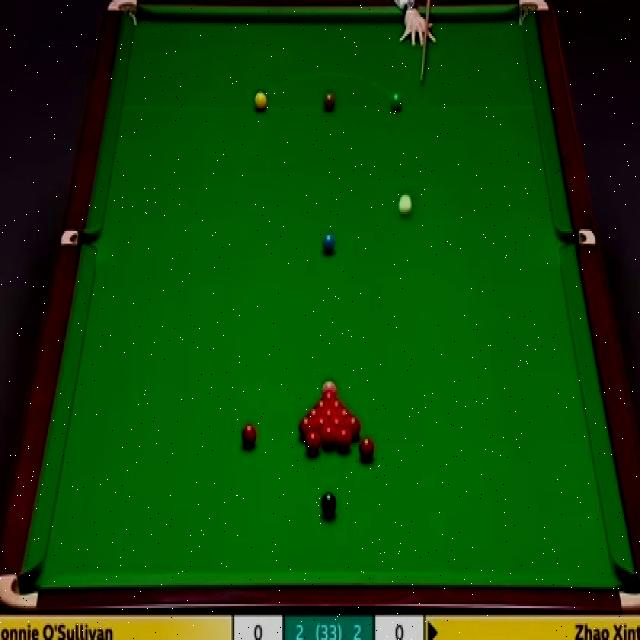black-ball: (319, 491, 336, 516)
blue-ball: (322, 234, 336, 252)
brown-ball: (322, 91, 337, 113)
green-ball: (388, 89, 404, 113)
pink-ball: (322, 381, 337, 396)
red-ball: (302, 430, 321, 454), (359, 435, 374, 463), (241, 423, 256, 448), (343, 416, 359, 438), (298, 416, 313, 439), (322, 425, 336, 448), (337, 429, 351, 452), (330, 418, 344, 439), (308, 408, 320, 421), (322, 393, 334, 406), (324, 409, 334, 422)
white-ball: (397, 193, 412, 217)
yellow-ball: (254, 91, 267, 113)
